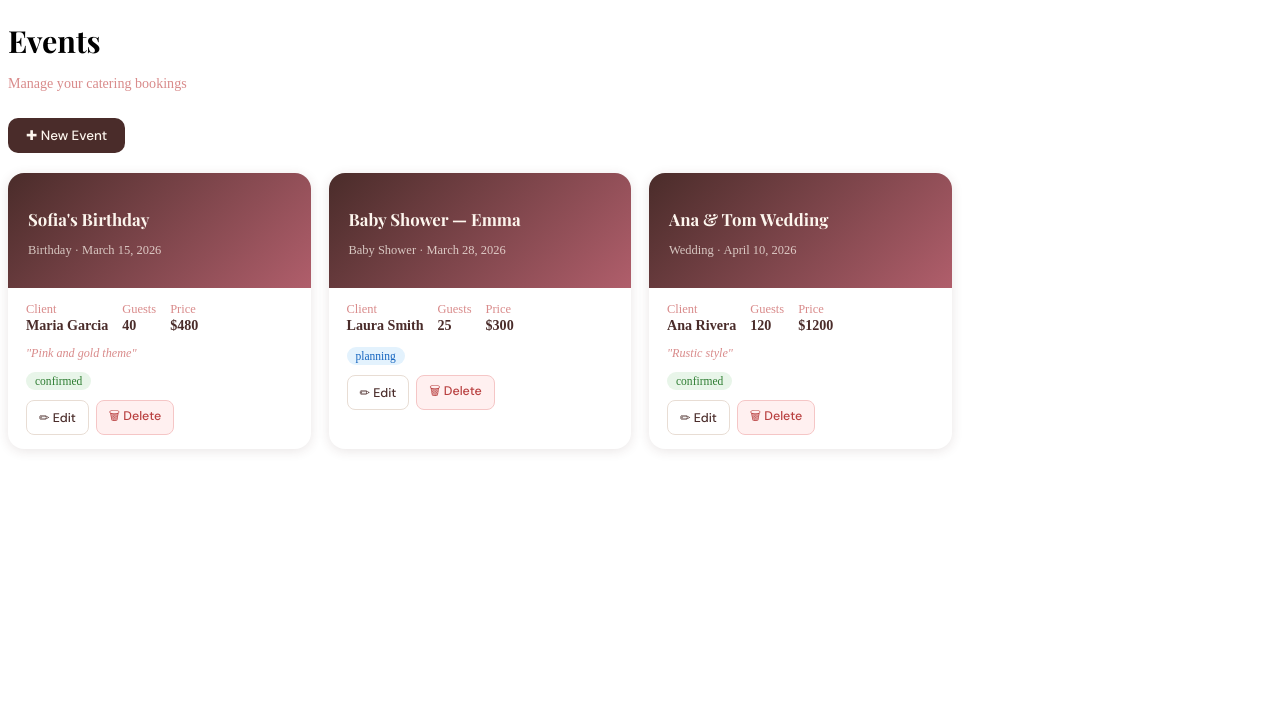
EventsPage › closes the modal when clicking Cancel
Step 1. Click the button "✚ New Event" → (67, 136), box [8,118,125,153]
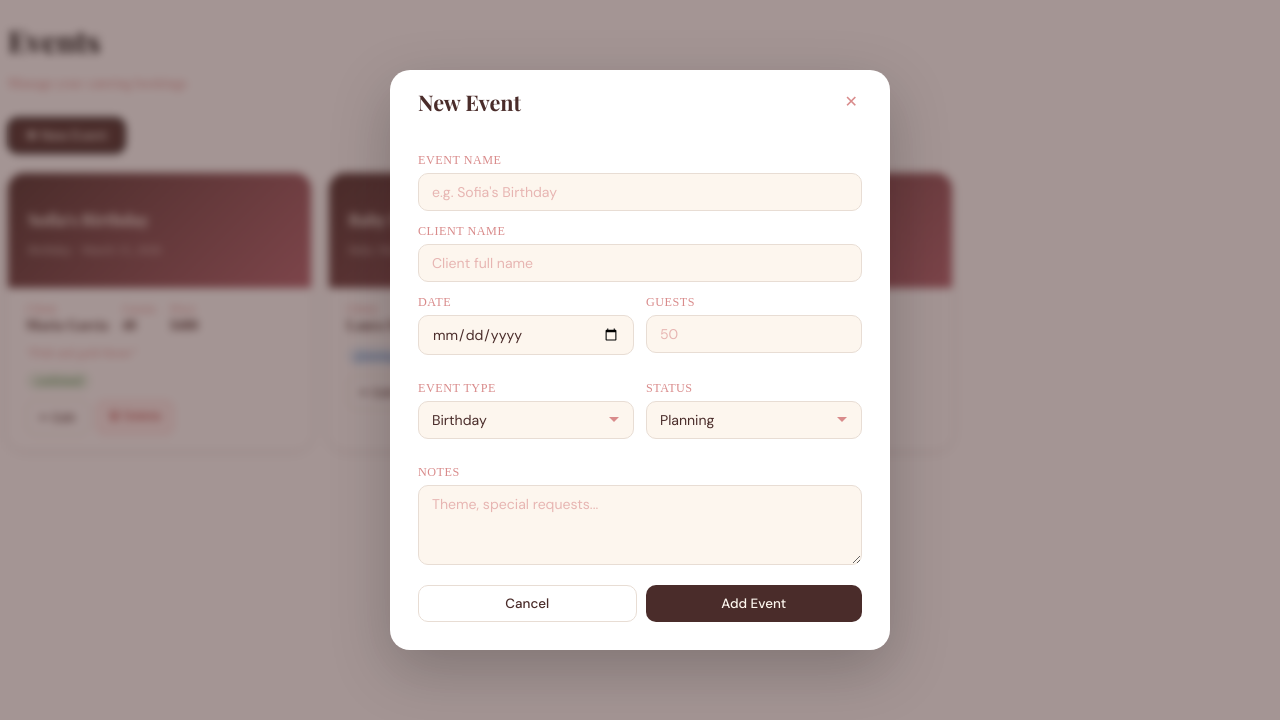
Step 2. Click the button "Cancel" → (527, 604), box [418,585,636,622]
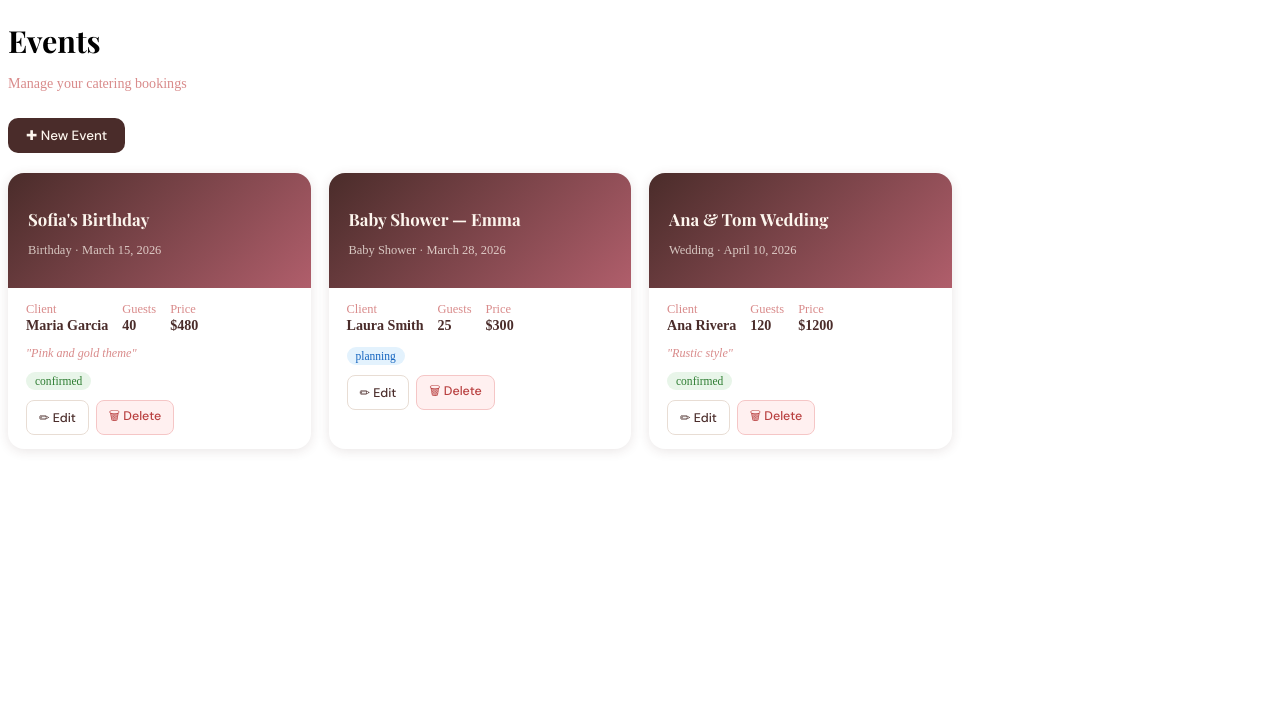
expect the dialog is gone: met
